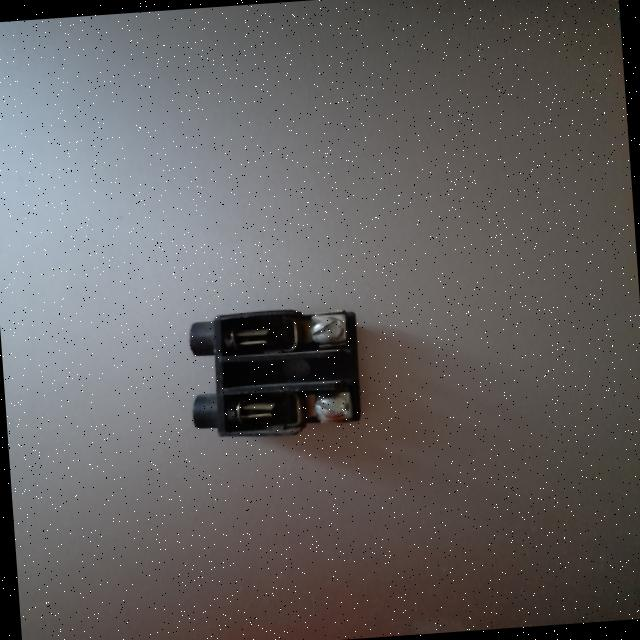Slotted: (307, 314, 344, 343), (313, 394, 349, 419)
